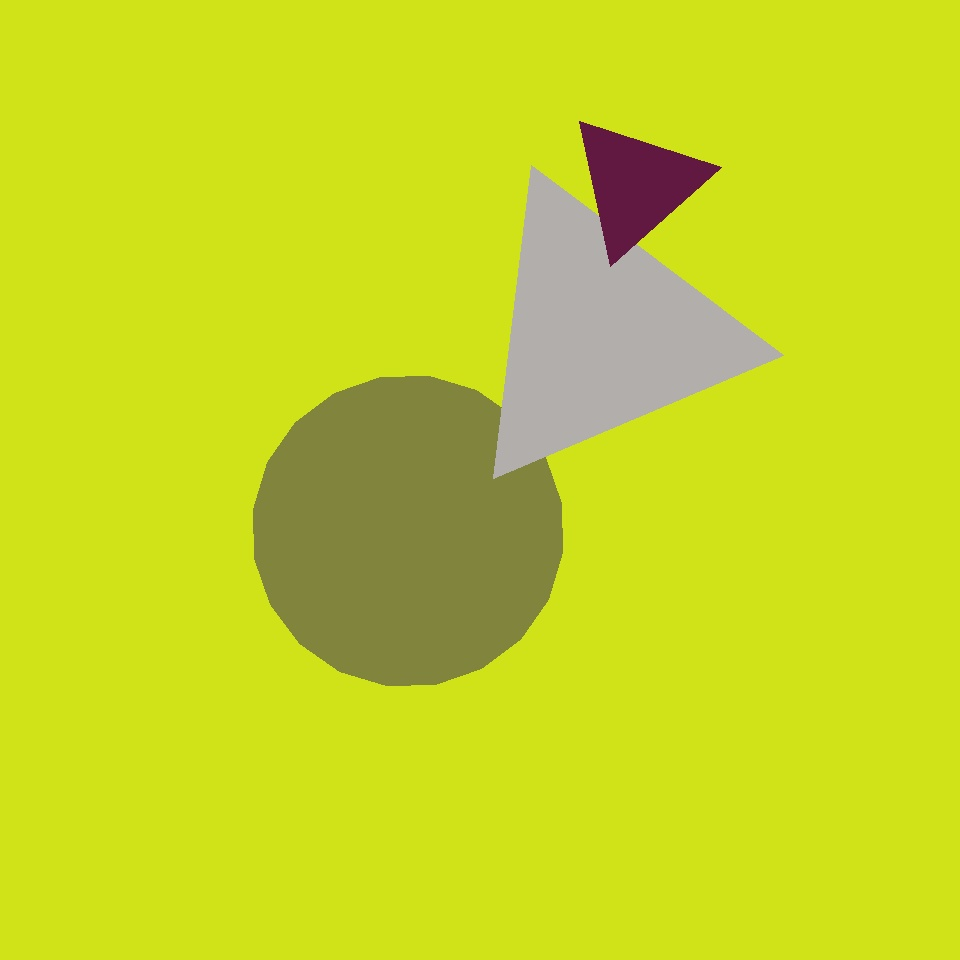circle: (458, 176, 748, 490), (220, 584, 502, 860), (336, 591, 555, 822), (60, 559, 252, 766), (566, 113, 708, 258)
triangle: (253, 376, 562, 686)
